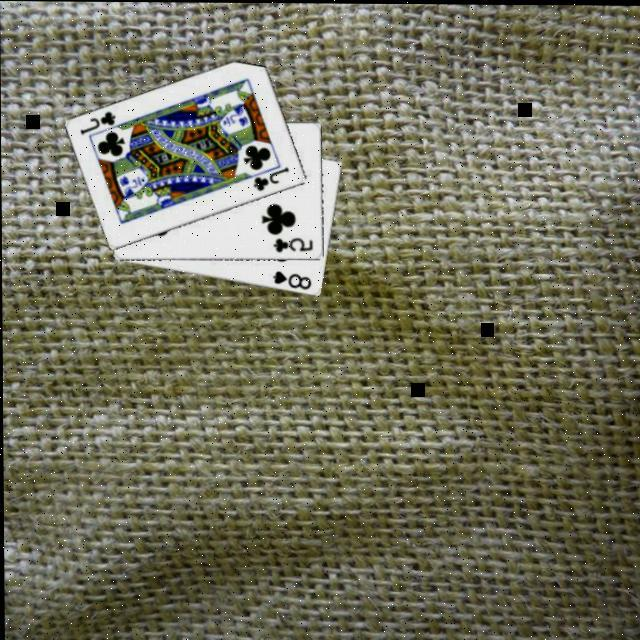5C: (270, 233, 314, 253)
8S: (269, 266, 313, 290)
JC: (249, 161, 291, 191), (76, 106, 118, 136)
